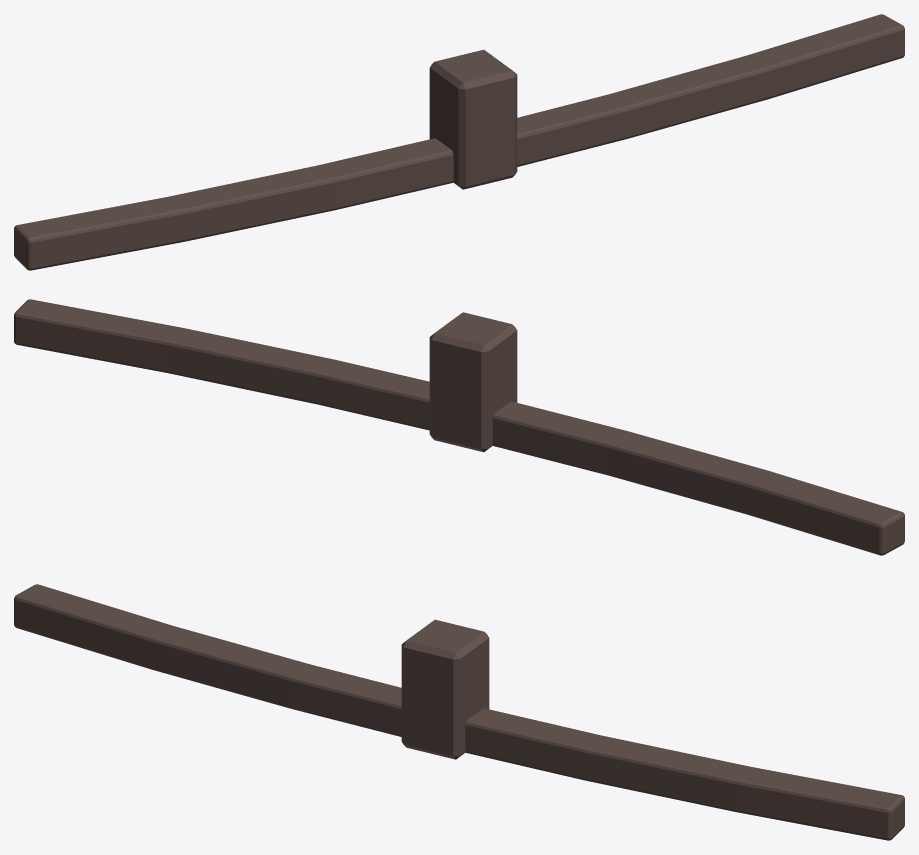
Rendered from kit_rimseg.ol.glb.
3 renders of one model, top to bottom at view 1: azimuth 30°, elevation 25°; view 2: azimuth 150°, elevation 25°; view 3: azimuth 330°, elevation 25°, orthographic.
Parts seen in each view (by area): view 1: outline; view 2: outline; view 3: outline.
Boxes of the visible parts, x1,y1,x2,y2 form: outline: [14, 14, 904, 270]; outline: [14, 299, 904, 555]; outline: [14, 584, 904, 840].
Bounding box in the file's own units: 14.18 × 1.65 × 1.2.
